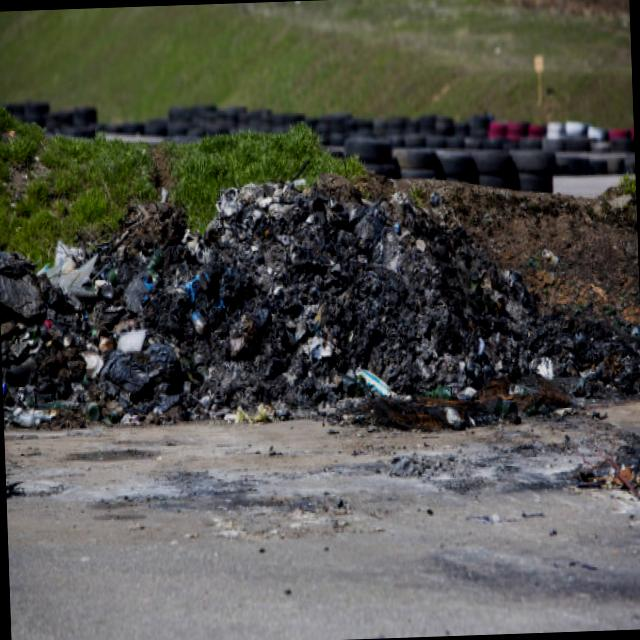garbage: (0, 170, 640, 441)
